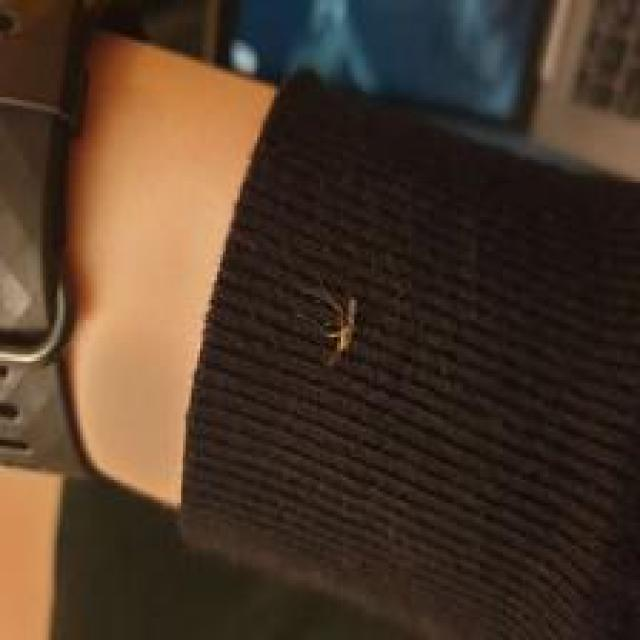Culex: (303, 281, 363, 370)
